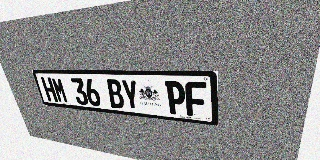3: (70, 78, 89, 105)
6: (83, 78, 102, 107)
B: (105, 79, 125, 109)
F: (185, 81, 207, 117)
H: (40, 77, 58, 102)
M: (51, 77, 69, 103)
P: (165, 81, 186, 115)
Y: (120, 79, 141, 111)
